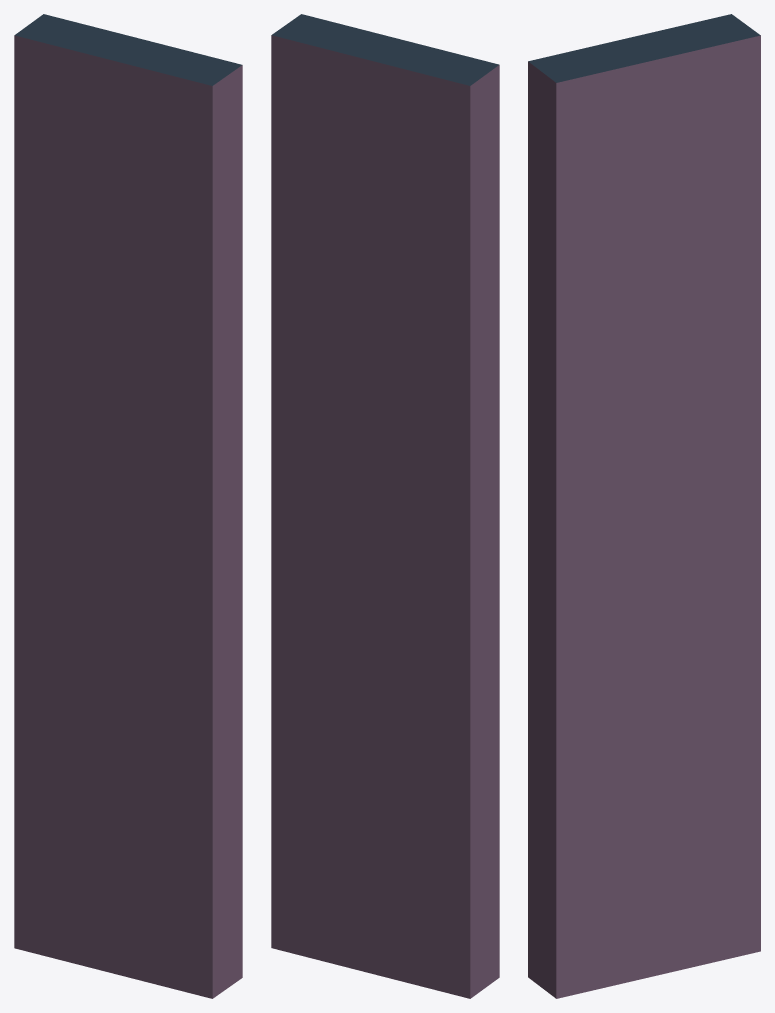
Rendered from nyc-1080837-0.glb.
3 renders of one model, left to right at view 1: azimuth 30°, elevation 25°; view 2: azimuth 210°, elevation 25°; view 3: azimuth 270°, elevation 25°, orthographic.
Visible parts, largest first — view 1: nyc-1080837-0; view 2: nyc-1080837-0; view 3: nyc-1080837-0.
Boxes of the visible parts, left/top/right/bottom form: nyc-1080837-0: left=14, top=14, right=242, bottom=998; nyc-1080837-0: left=271, top=14, right=499, bottom=998; nyc-1080837-0: left=528, top=14, right=760, bottom=998.
Bounding box in the file's own units: 21.21 × 131 × 30.25.
